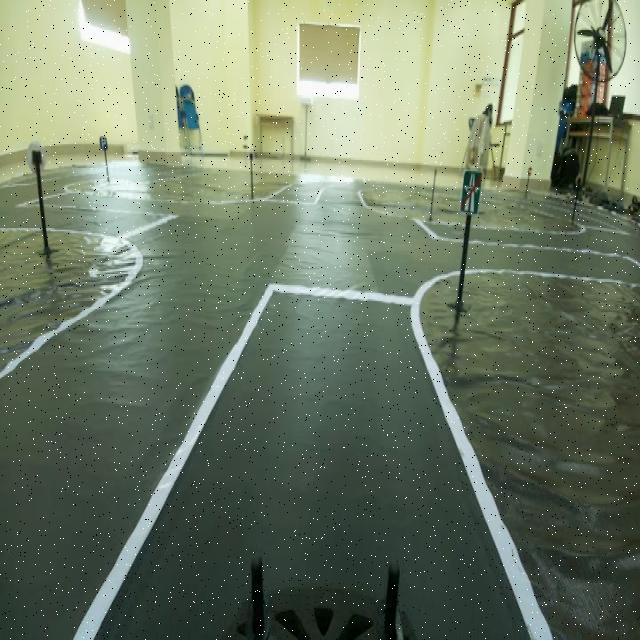highway_exit: (457, 162, 485, 220)
